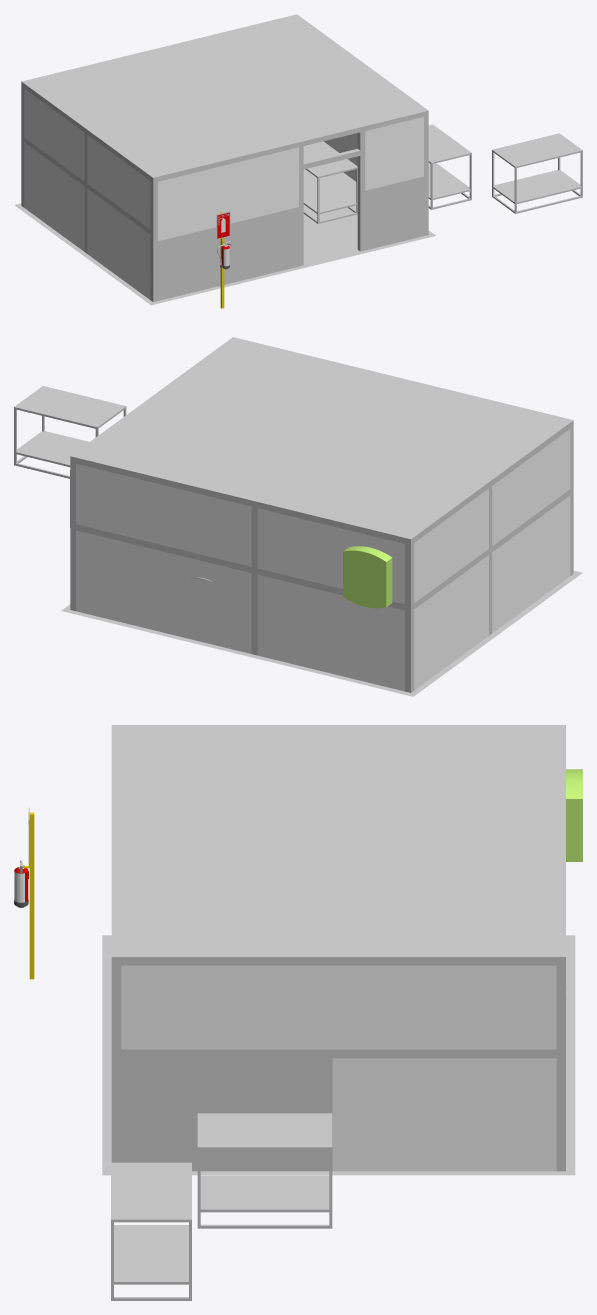
The model's file is workshop.glb.
The picture shows the model from 3 angles, top to bottom: view 1: azimuth 30°, elevation 25°; view 2: azimuth 150°, elevation 25°; view 3: azimuth 270°, elevation 25°; orthographic projection. The views are drawn at different scales.
Visible parts, largest first — view 1: Layer0_001, Metal & Wood Table_003, Metal & Wood Table_001, Metal & Wood Table_002, Group_010; view 2: Layer0_001, Metal & Wood Table_003, Group_005; view 3: Layer0_001, Metal & Wood Table_002, Metal & Wood Table_003, Group_005, Group_010.
Part boxes in pixels (x1,y1,x2,y2): Layer0_001: (14,14,435,305); Metal & Wood Table_003: (492,133,582,213); Metal & Wood Table_001: (303,141,357,223); Metal & Wood Table_002: (428,124,471,209); Group_010: (216,211,230,308); Layer0_001: (61,337,582,696); Metal & Wood Table_003: (14,386,126,478); Group_005: (343,546,392,608); Layer0_001: (102,725,575,1175); Metal & Wood Table_002: (197,1113,332,1228); Metal & Wood Table_003: (111,1162,191,1300); Group_005: (566,769,582,861); Group_010: (23,807,34,979).
Size of the model in its own units: 9.14 by 2.5 by 6.01.
